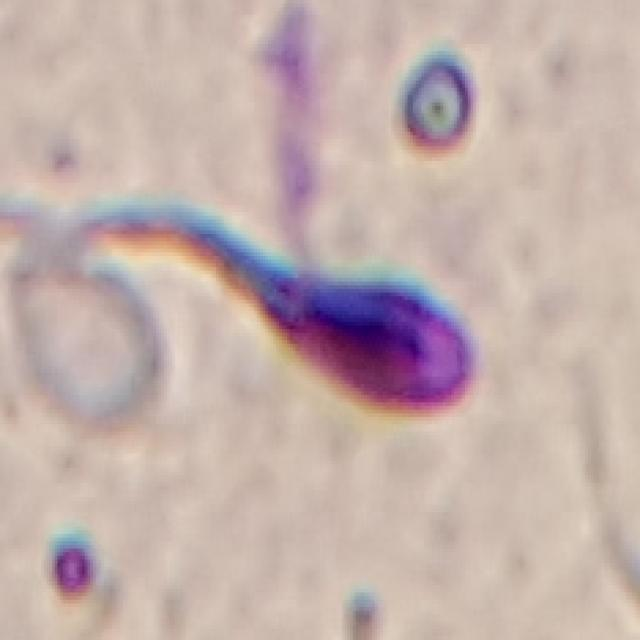abnormal sperm: (44, 185, 504, 433)
